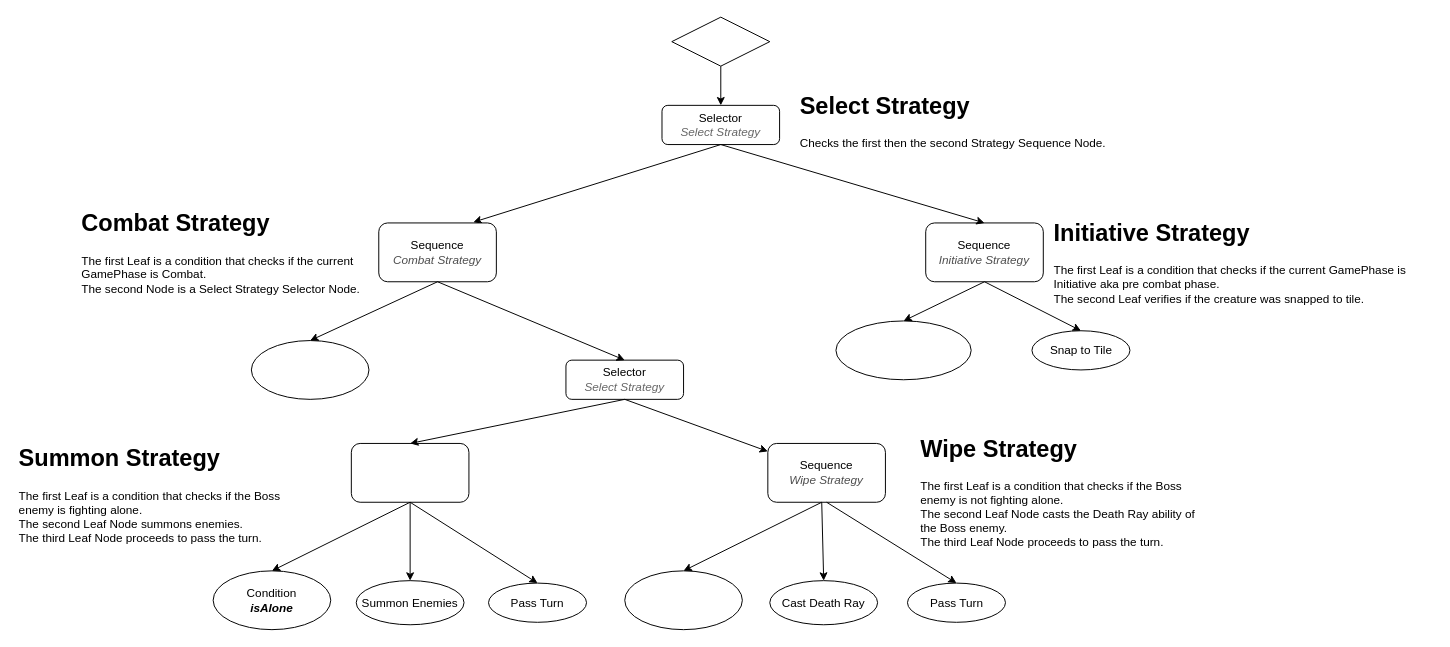
This 1450x647 diagram has some shape labels left out. The box of each missing label's shape, as (x1, y1, x2, y2) in pixels:
Condition !isAlone: (624, 570, 742, 630)
Condition isCombat: (250, 340, 369, 399)
Condition isInitiativePhase: (835, 320, 971, 380)
Root Node: (671, 16, 770, 66)
Sequence Summon Strategy: (350, 442, 469, 502)
